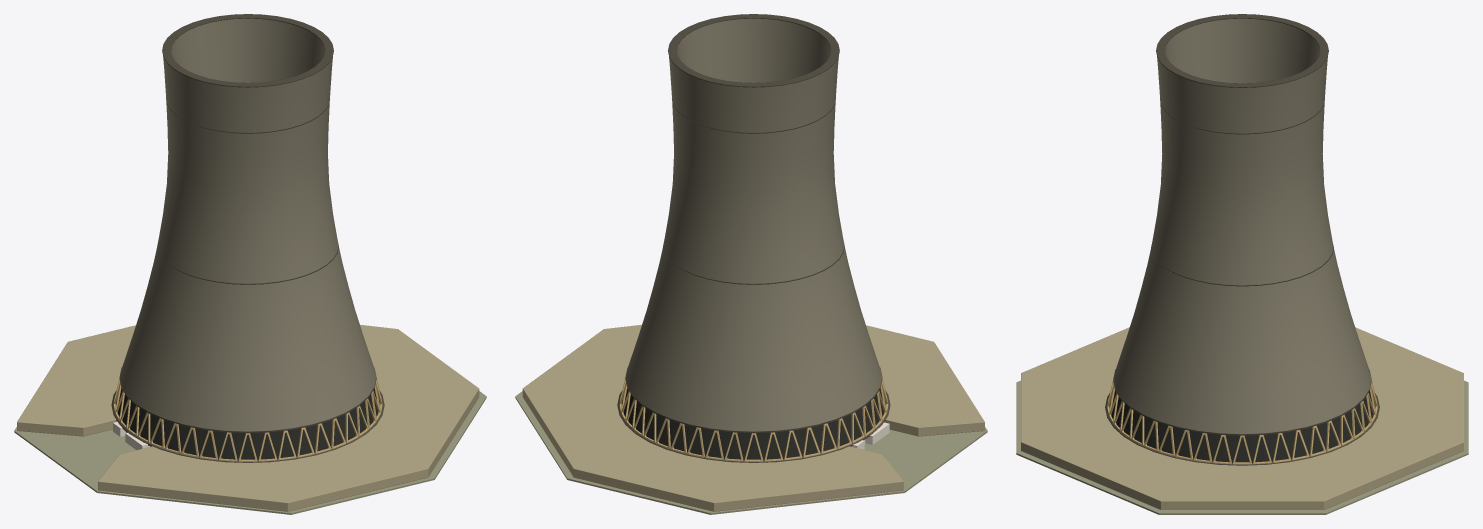
File: uploads_files_5159441_nuclear+power+plant.glb
The picture shows the model from 3 angles, left to right: view 1: azimuth 30°, elevation 25°; view 2: azimuth 150°, elevation 25°; view 3: azimuth 270°, elevation 25°; orthographic projection.
Visible parts, largest first — view 1: tower, concrete, base, bottom support, top ring, bottom rings, rings; view 2: tower, concrete, base, bottom support, top ring, bottom rings, rings; view 3: tower, concrete, bottom support, base, top ring, bottom rings, rings.
Boxes of the visible parts, left/top/right/bottom form: tower: left=116, top=18, right=380, bottom=460; concrete: left=17, top=325, right=479, bottom=511; base: left=14, top=391, right=486, bottom=514; bottom support: left=113, top=378, right=382, bottom=461; top ring: left=162, top=14, right=333, bottom=87; bottom rings: left=111, top=367, right=384, bottom=462; rings: left=157, top=98, right=338, bottom=284; tower: left=621, top=18, right=885, bottom=460; concrete: left=522, top=325, right=984, bottom=511; base: left=515, top=391, right=987, bottom=514; bottom support: left=619, top=378, right=888, bottom=461; top ring: left=668, top=14, right=839, bottom=87; bottom rings: left=617, top=367, right=890, bottom=462; rings: left=663, top=98, right=844, bottom=284; tower: left=1109, top=18, right=1375, bottom=462; concrete: left=1021, top=327, right=1463, bottom=509; bottom support: left=1107, top=380, right=1377, bottom=464; base: left=1016, top=380, right=1468, bottom=514; top ring: left=1156, top=14, right=1328, bottom=87; bottom rings: left=1105, top=369, right=1379, bottom=465; rings: left=1151, top=99, right=1333, bottom=286.
Size of the model in its own units: 230 by 206 by 230.
